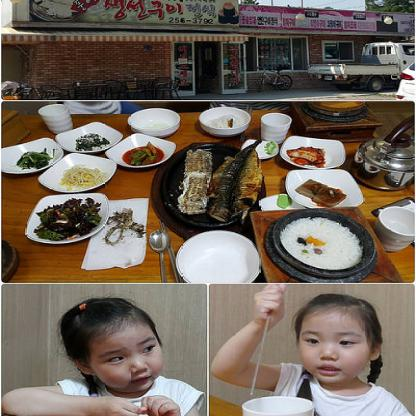Peixe: (171, 139, 277, 225)
